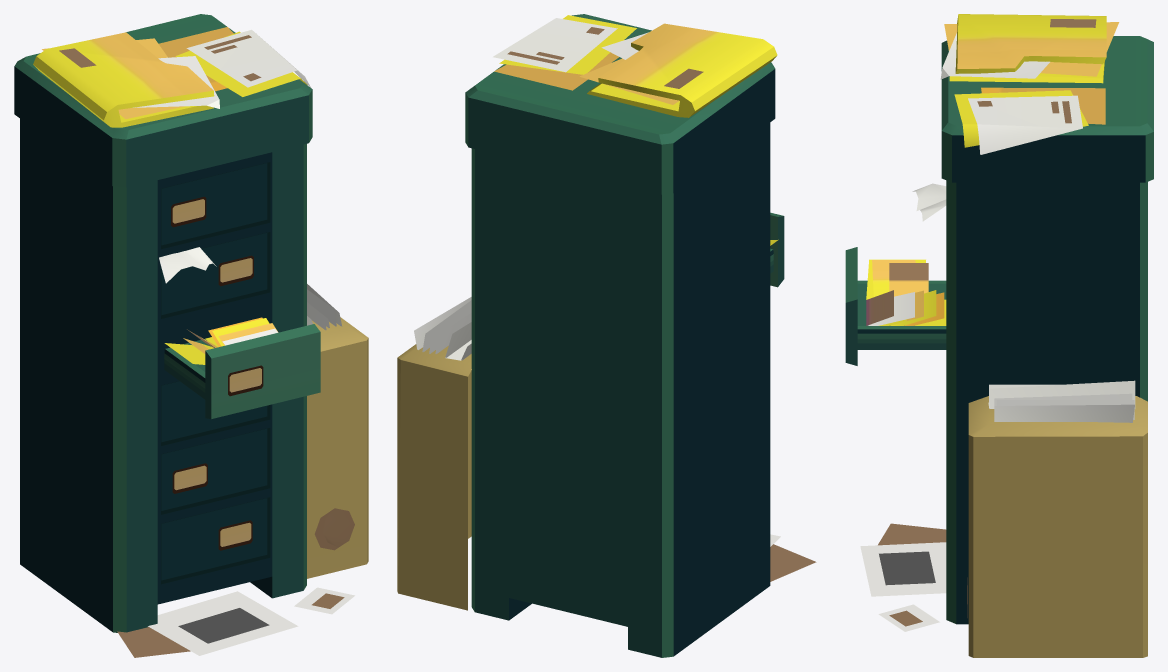
The model's file is office_archiver.fbx.
The picture shows the model from 3 angles, left to right: view 1: azimuth 30°, elevation 25°; view 2: azimuth 150°, elevation 25°; view 3: azimuth 270°, elevation 25°; orthographic projection. The views are drawn at different scales.
Parts seen in each view (by area): view 1: archiver; view 2: archiver; view 3: archiver.
Part boxes in pixels (<box>): archiver: <box>14,14,368,657</box>; archiver: <box>397,14,816,657</box>; archiver: <box>845,14,1153,657</box>.
Size of the model in its own units: 0.9522 by 1.73 by 0.935.
